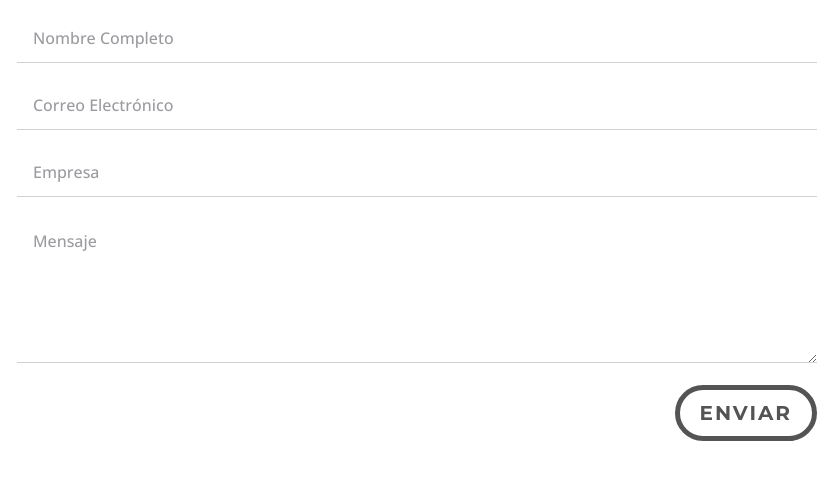
Test case: ContactForm — estados de envio › anuncia sucesso, limpa os campos e leva o foco ao status
Type "Ana Pérez" into the field labelled "Nombre Completo" at (417, 38), box [17,12,817,63]
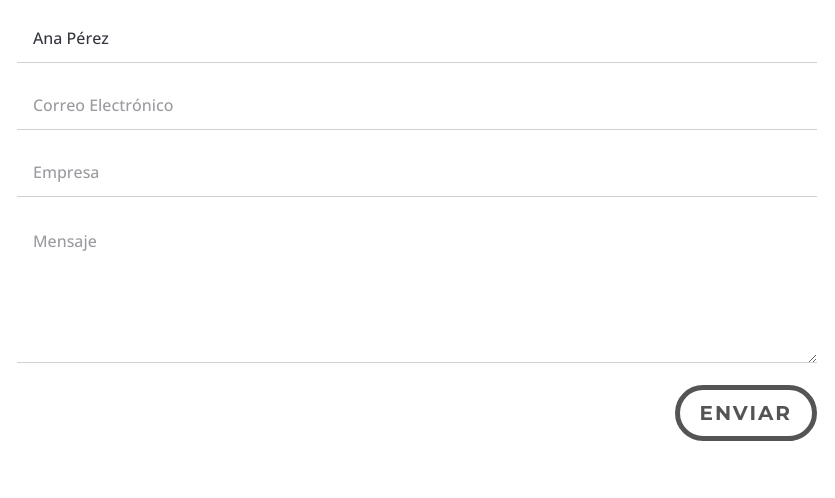
Click the button "Enviar" at (746, 413), box [674,385,817,441]
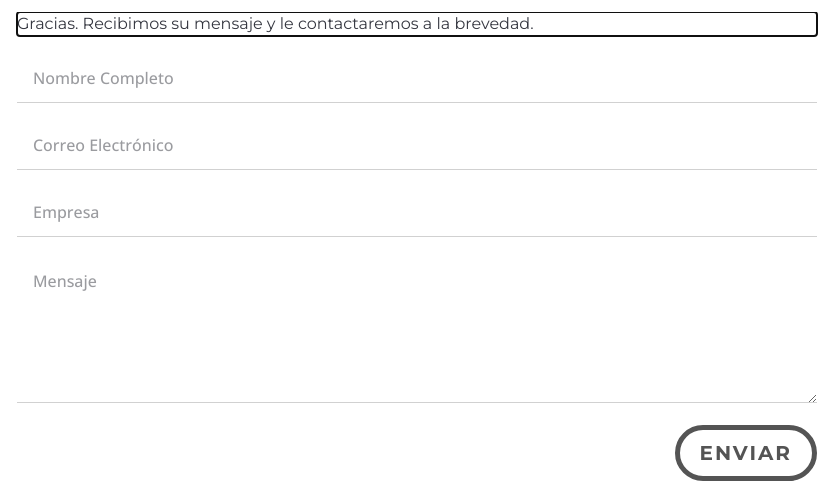
Check: the text "Gracias. Recibimos su mensaje y le contactaremos a la brevedad." is shown, box [17,14,534,33]
Check: the field labelled "Nombre Completo" is empty, box [17,52,817,103]
